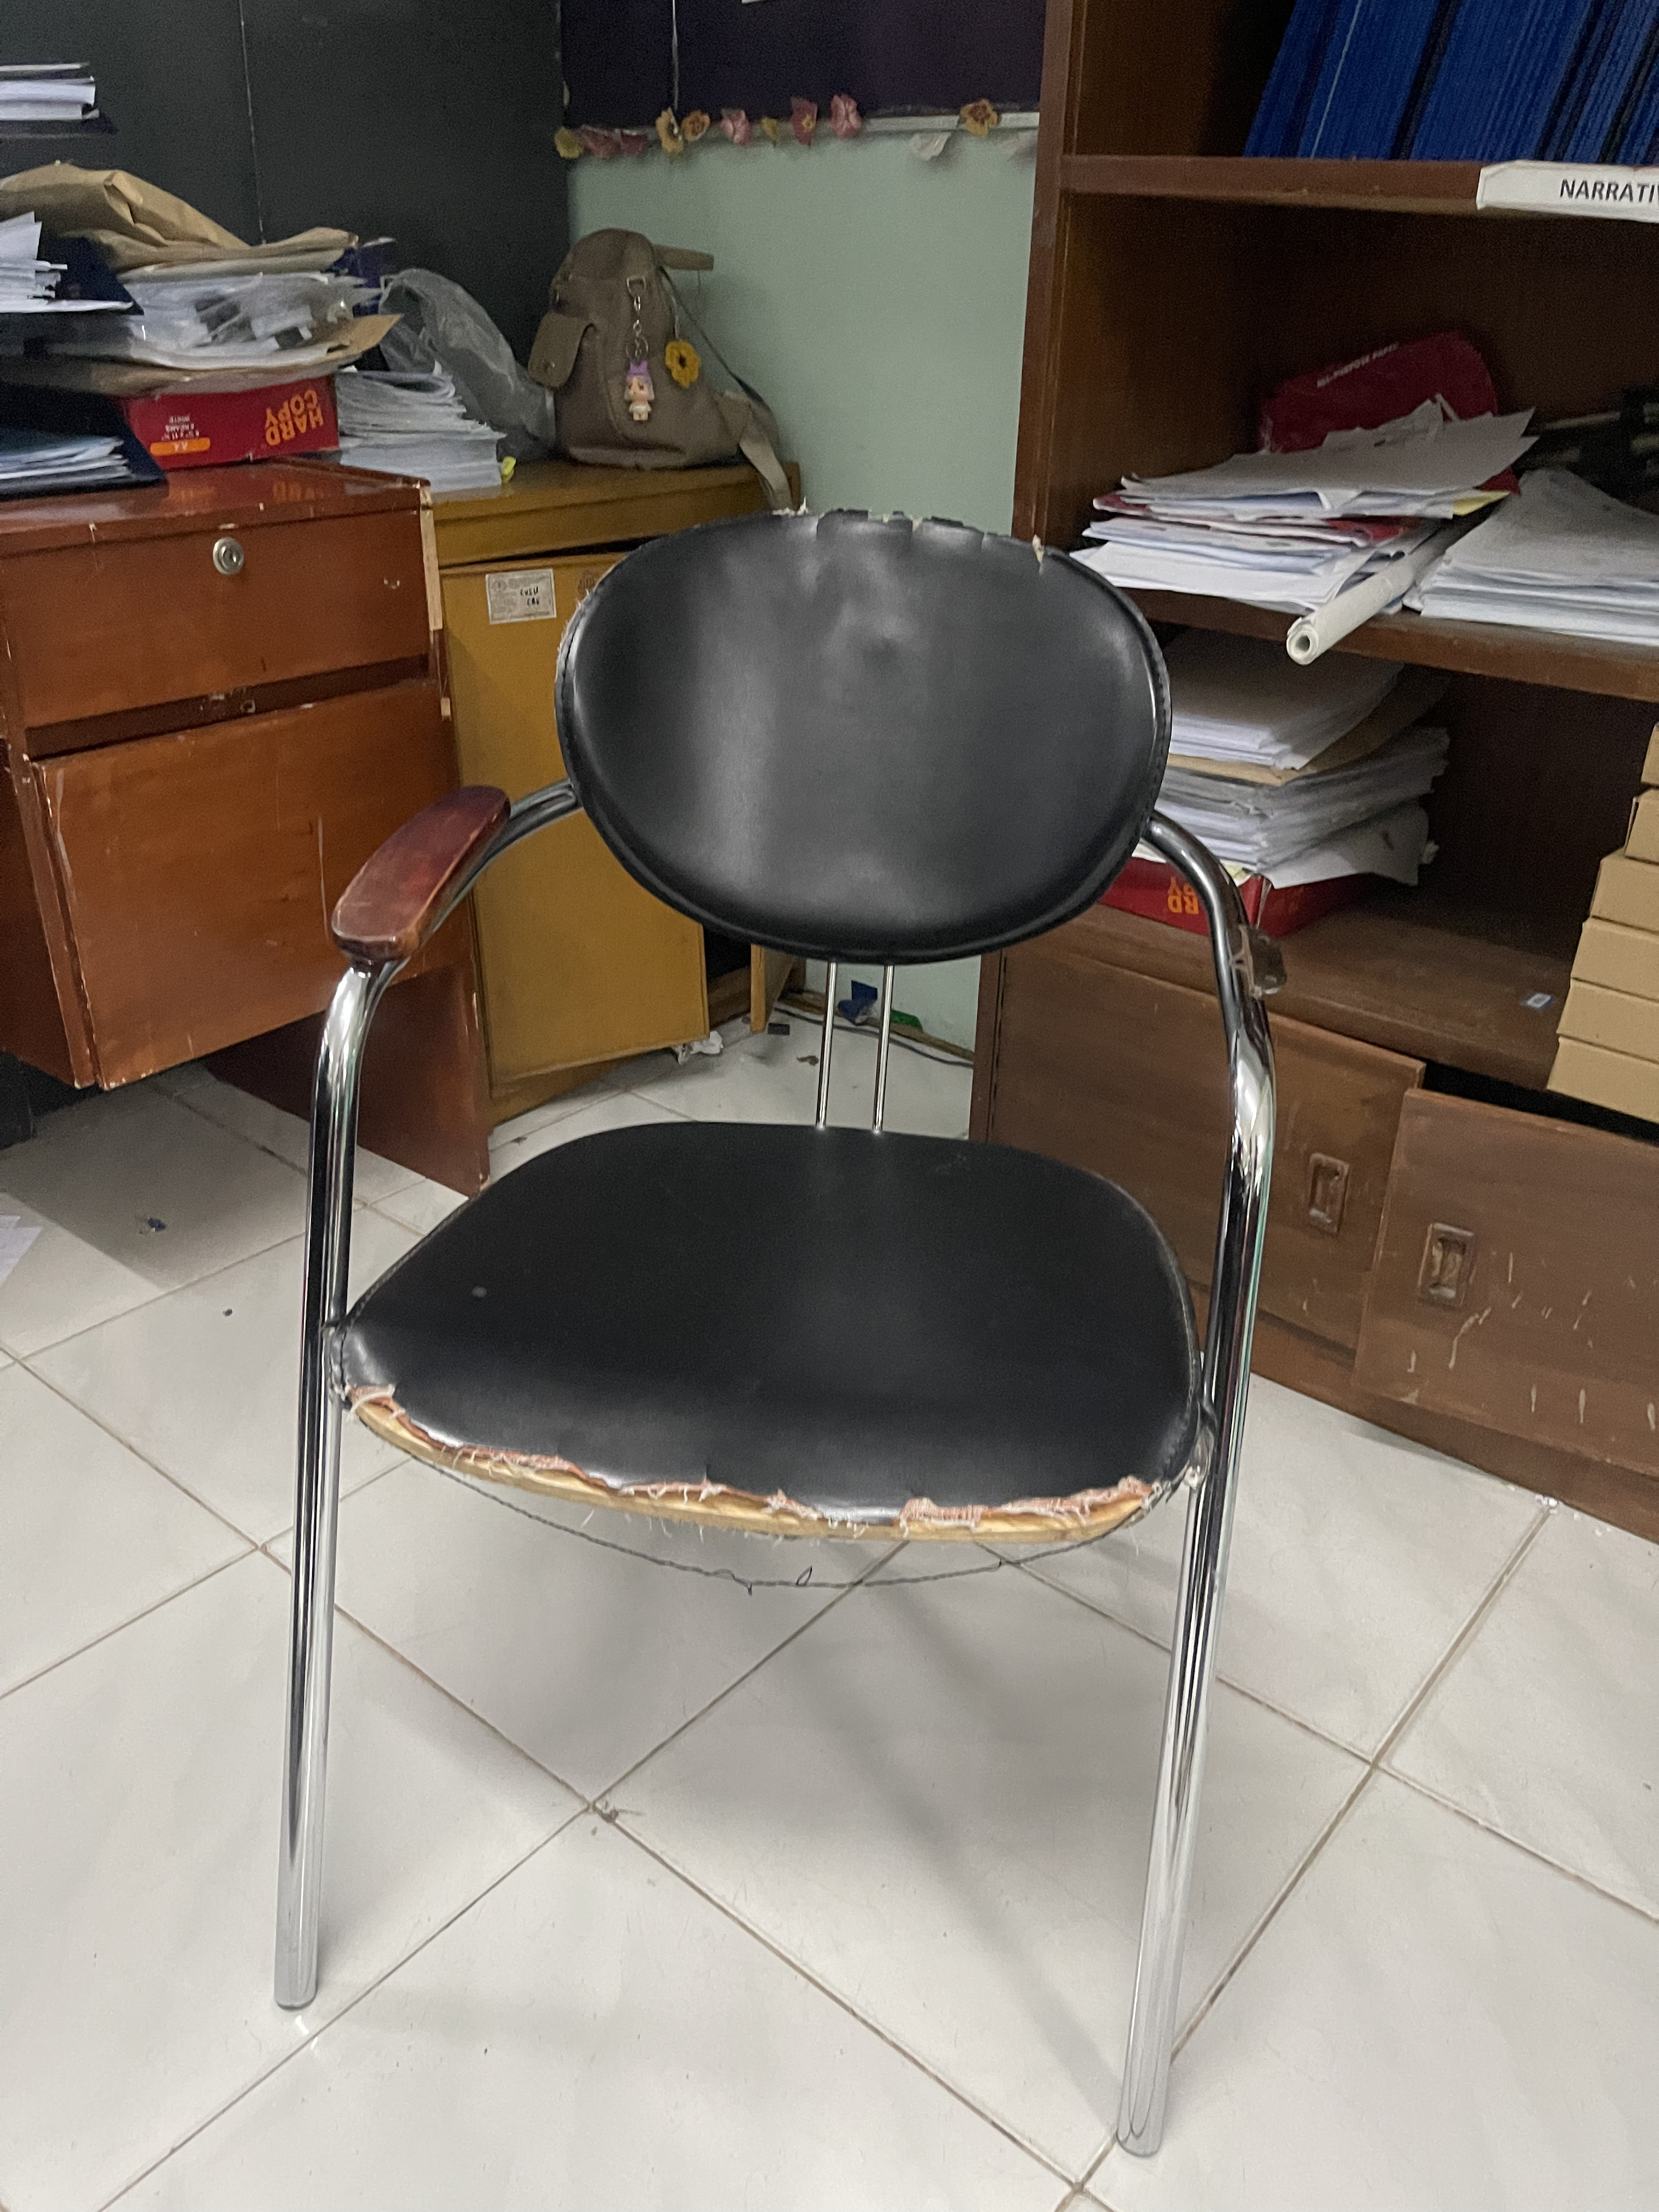chair1: (272, 498, 1290, 2172)
